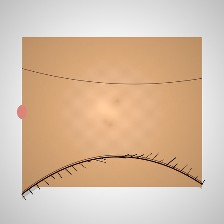hemorrhage_spot: (86, 68, 179, 142)
